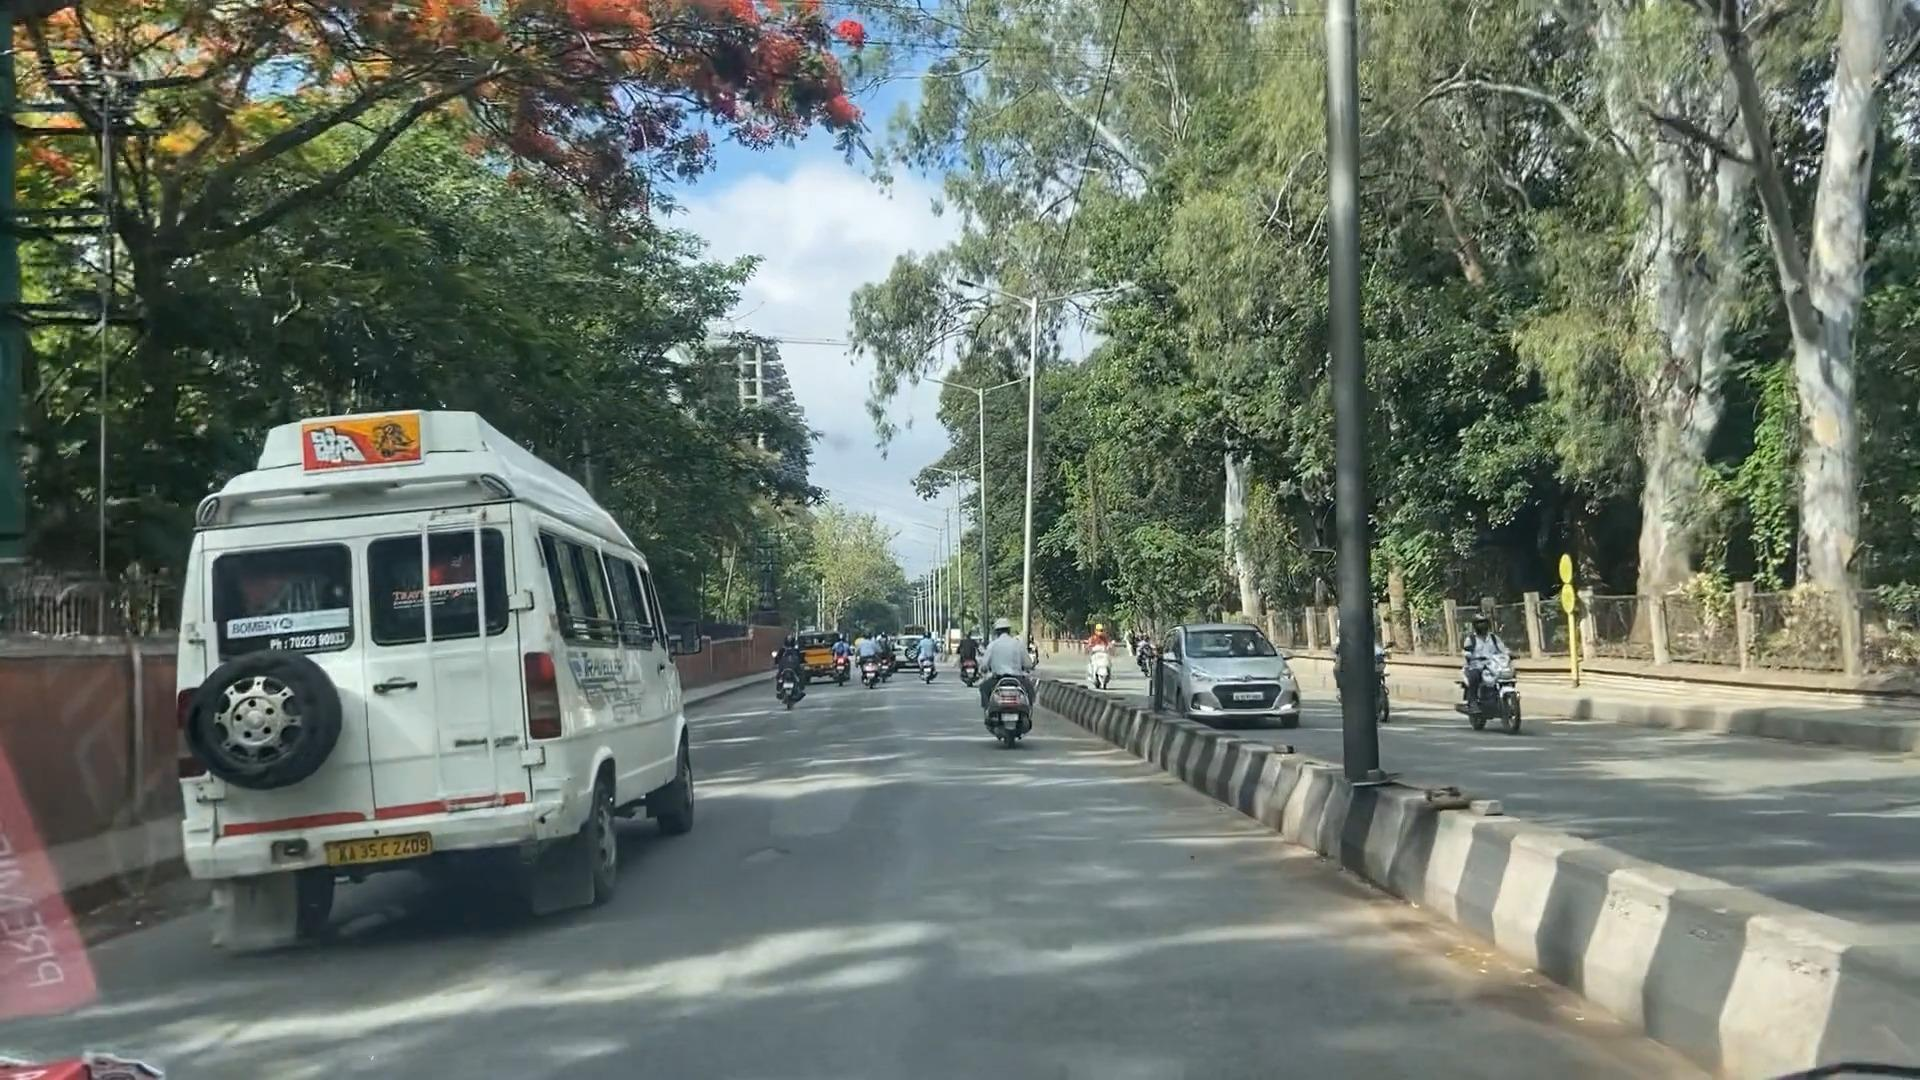HMV: (185, 456, 587, 948)
LMV: (988, 612, 1027, 770), (767, 616, 811, 712)
